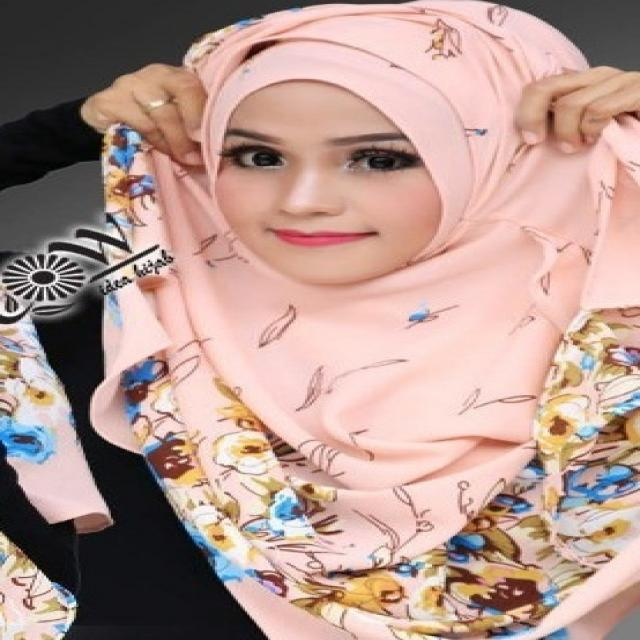head: (177, 20, 597, 291)
